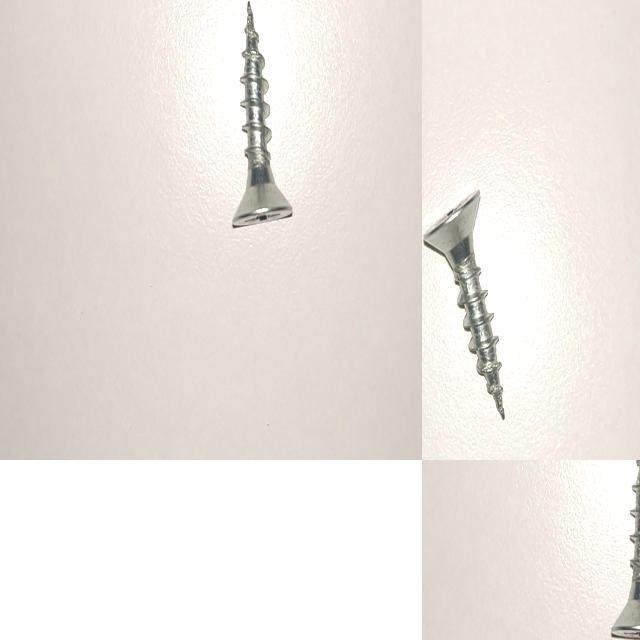Screw: (423, 190, 505, 419), (232, 0, 293, 227), (611, 460, 640, 639)
